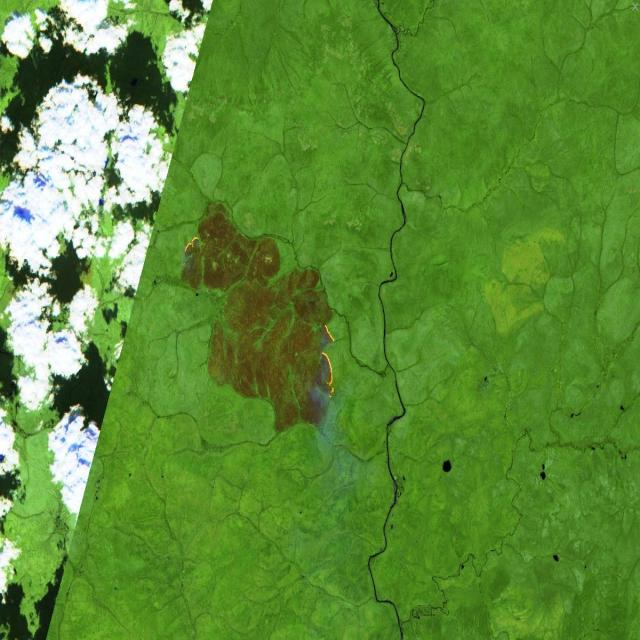fire: (181, 233, 338, 404)
